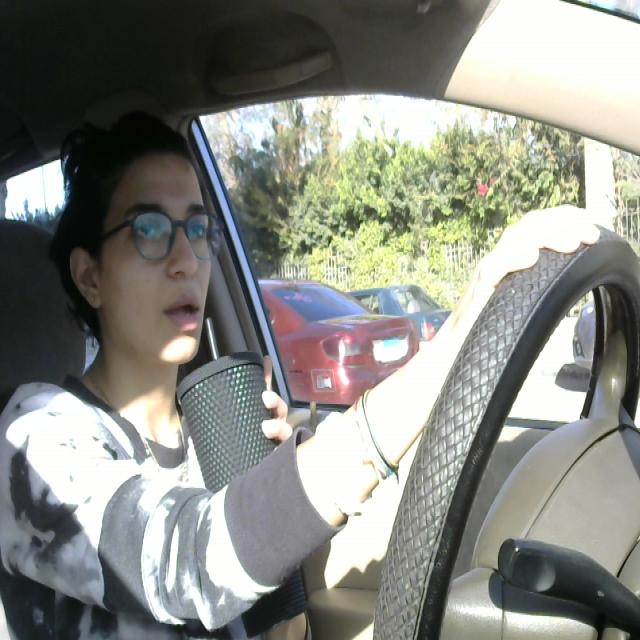drinking: (170, 312, 317, 634)
